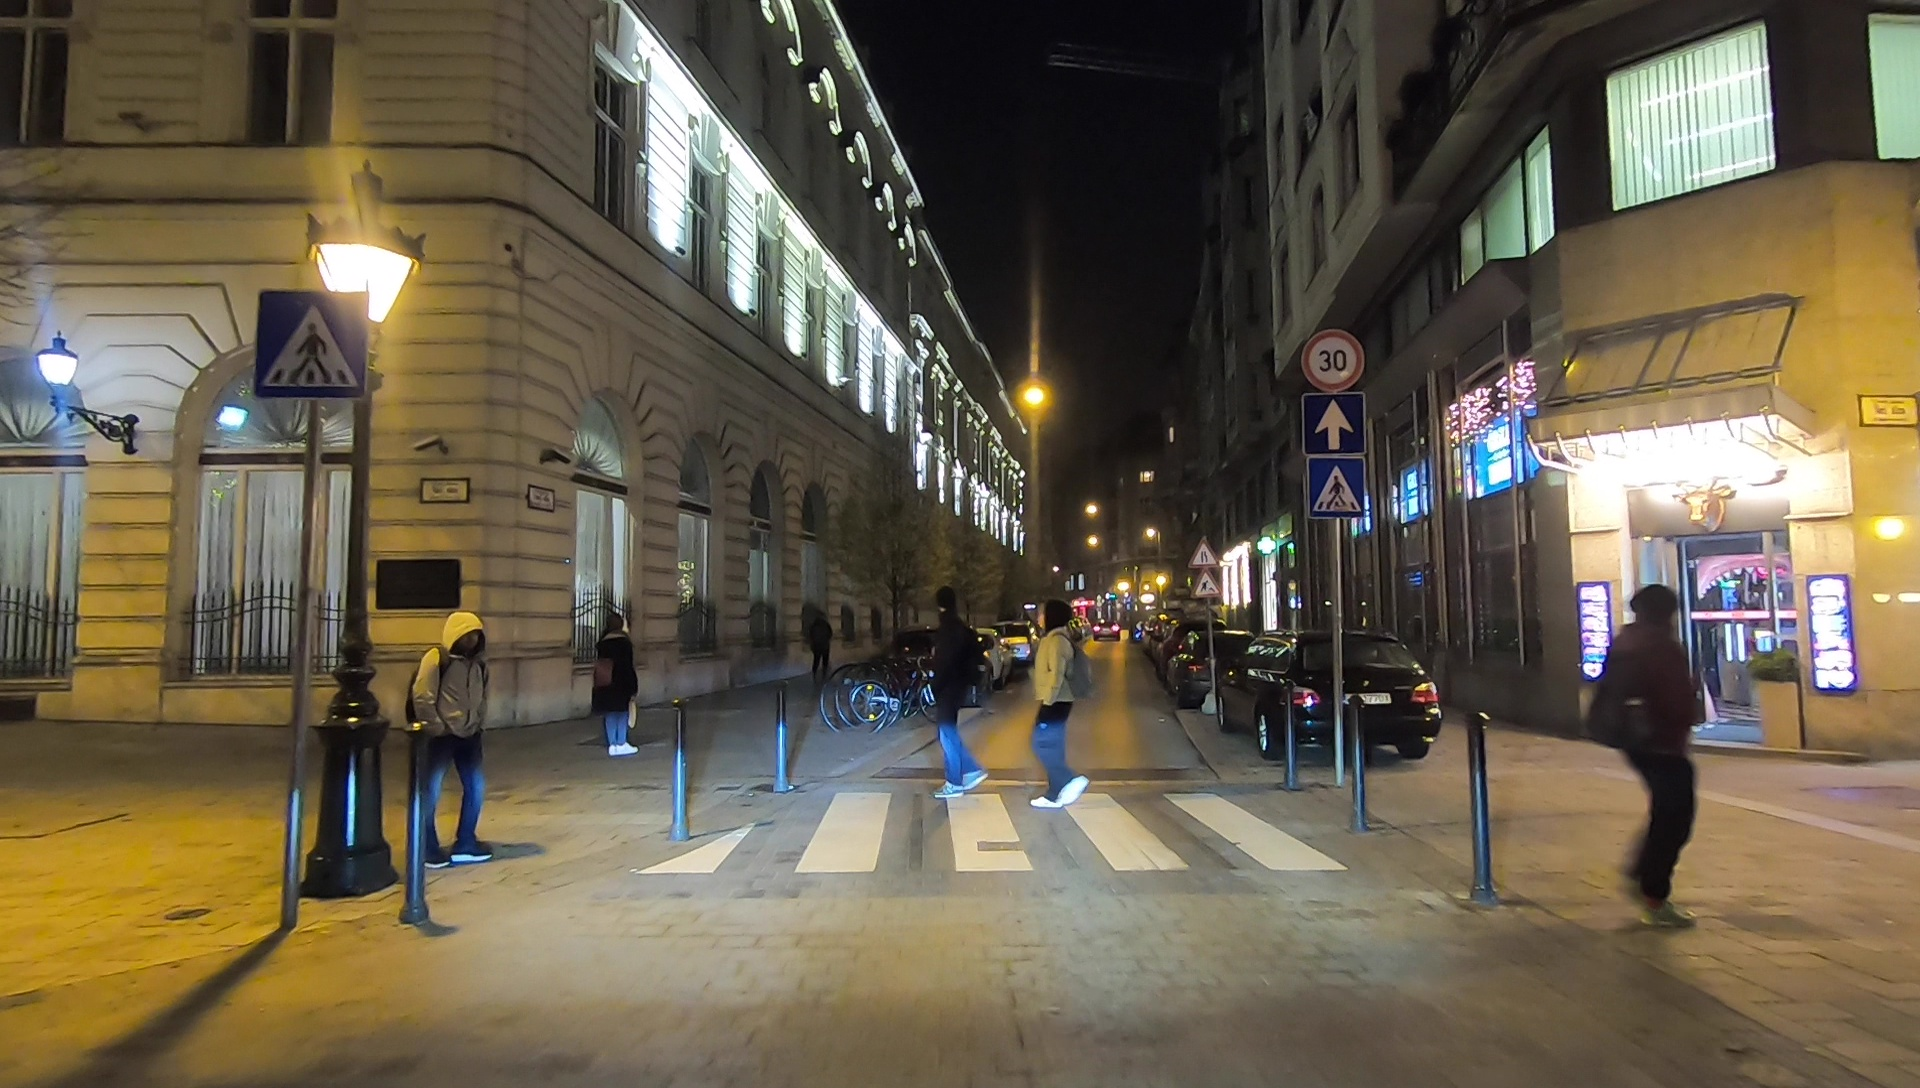person: (1599, 580, 1695, 930), (406, 610, 489, 865), (925, 587, 989, 797), (1026, 600, 1088, 806), (588, 613, 647, 758), (806, 606, 828, 691)
